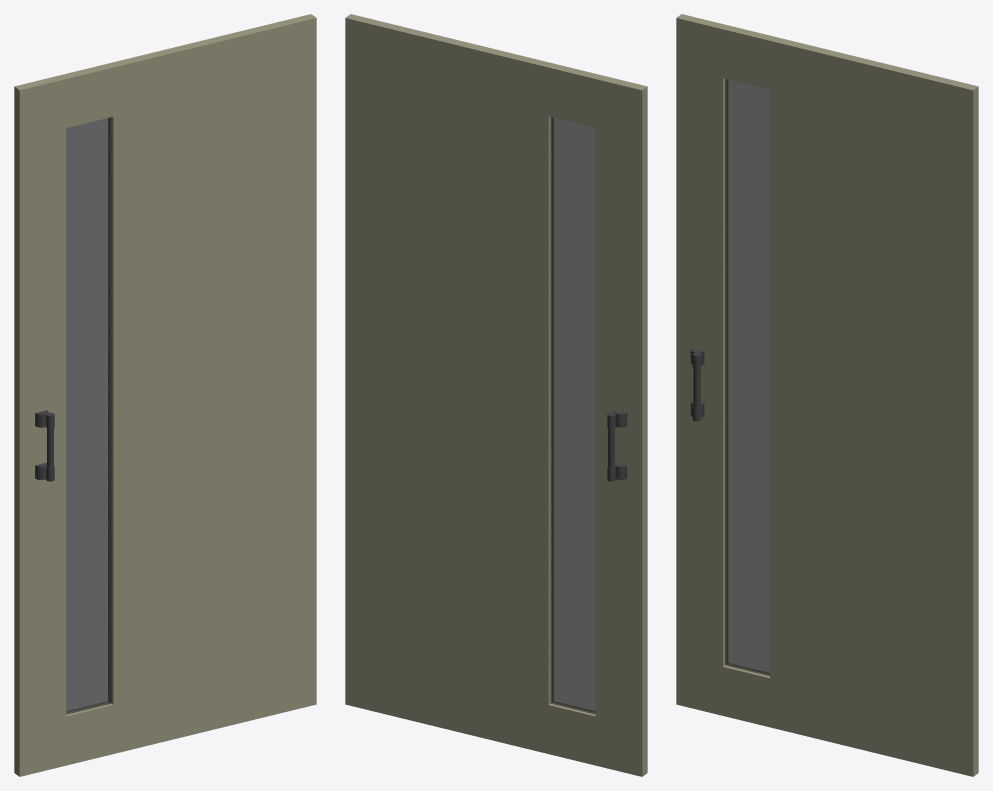
The model's file is door2-plate.FBX.
The picture shows the model from 3 angles, left to right: view 1: azimuth 30°, elevation 25°; view 2: azimuth 150°, elevation 25°; view 3: azimuth 330°, elevation 25°; orthographic projection.
Parts seen in each view (by area): view 1: 63:1:5; view 2: 63:1:5; view 3: 63:1:5.
Part boxes in pixels (x1,y1,x2,y2): 63:1:5: (14, 14, 316, 776); 63:1:5: (345, 14, 647, 776); 63:1:5: (676, 14, 978, 776).
Size of the model in its own units: 37.36 by 82.56 by 4.28.
